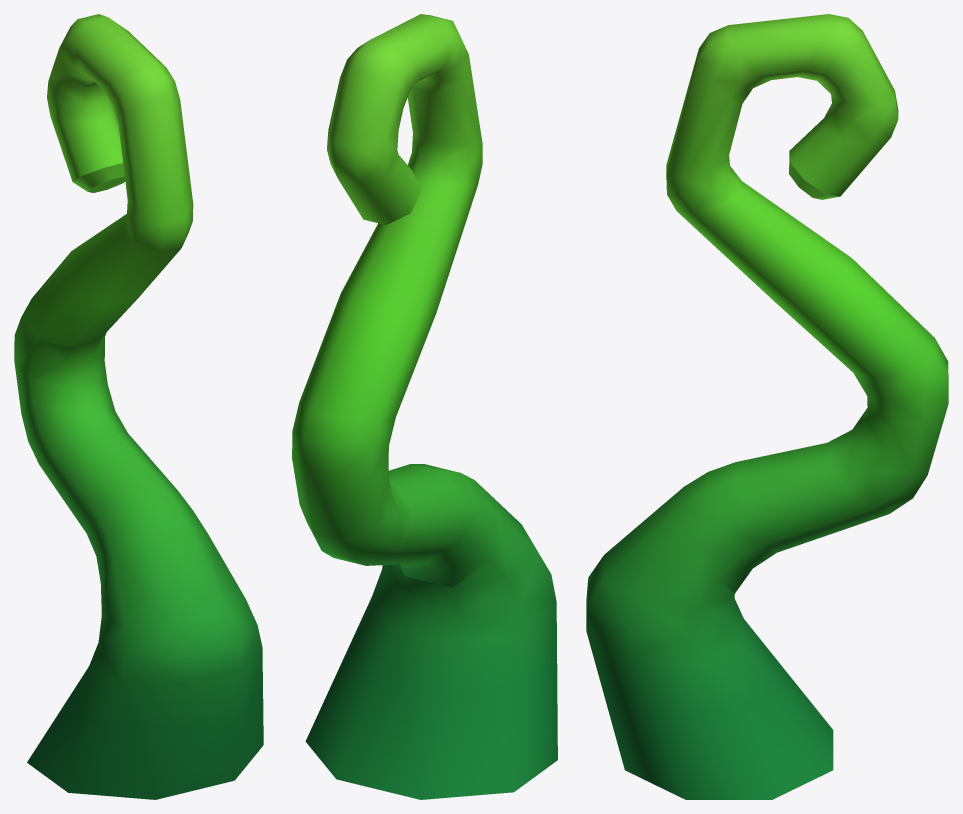
The model's file is Vine_3_1.obj.
3 renders of one model, left to right at view 1: azimuth 30°, elevation 25°; view 2: azimuth 150°, elevation 25°; view 3: azimuth 270°, elevation 25°, orthographic. The views are drawn at different scales.
Parts seen in each view (by area): view 1: Vine_3_1; view 2: Vine_3_1; view 3: Vine_3_1.
Part boxes in pixels (x1=…): Vine_3_1: x1=14, y1=14, x2=263, y2=799; Vine_3_1: x1=292, y1=14, x2=557, y2=799; Vine_3_1: x1=586, y1=14, x2=948, y2=799.
Size of the model in its own units: 0.227 by 0.7752 by 0.3487.
